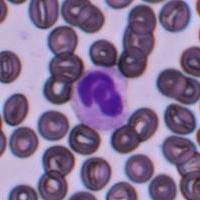N: (70, 65, 129, 131)
